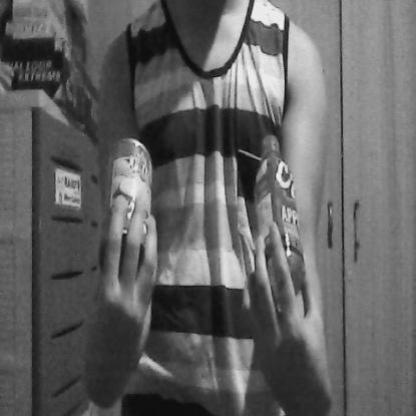Plastic Bottle: (235, 114, 314, 308)
